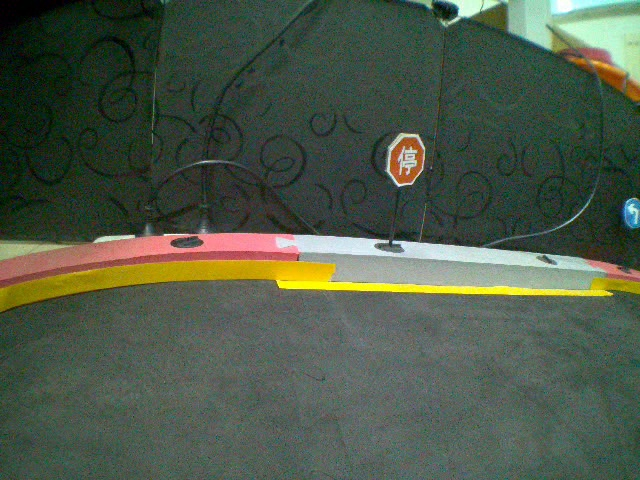Stop: (386, 131, 424, 186)
